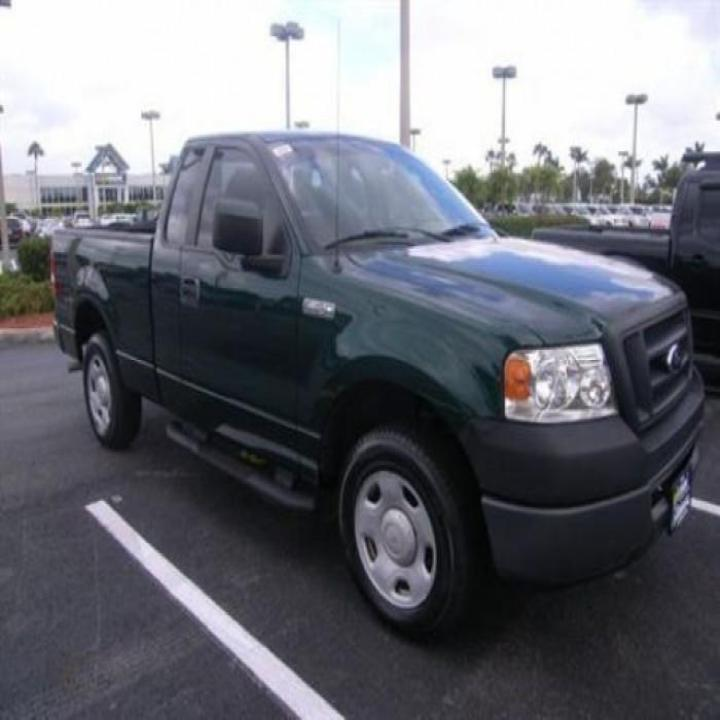car: (47, 125, 706, 638), (529, 150, 720, 402)
